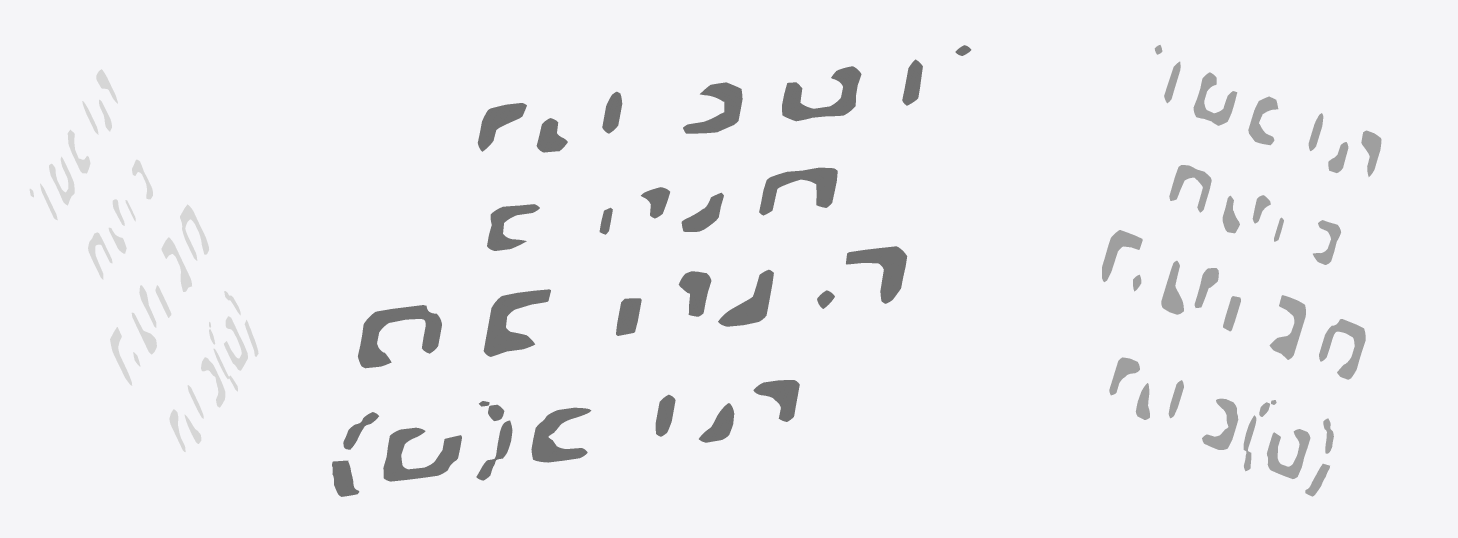
Rendered from paneru_skurin_02.fbx.
3 renders of one model, left to right at view 1: azimuth 30°, elevation 25°; view 2: azimuth 150°, elevation 25°; view 3: azimuth 270°, elevation 25°, orthographic. The views are drawn at different scales.
Parts seen in each view (by area): view 1: paneru_skurin_02; view 2: paneru_skurin_02; view 3: paneru_skurin_02.
Part boxes in pixels (x1,y1,x2,y2): paneru_skurin_02: (29, 69, 258, 451); paneru_skurin_02: (332, 45, 971, 496); paneru_skurin_02: (1102, 45, 1381, 496).
Size of the model in its own units: 77.32 by 71.62 by 78.86.
1 material, 1 textured.
